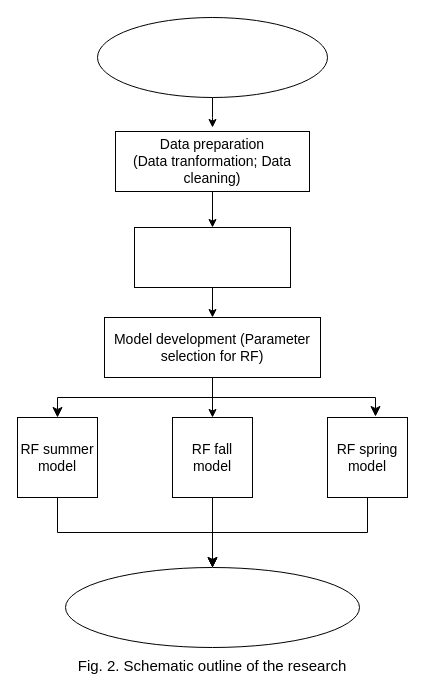
Some shapes in this 425 by 698 pixel diagram are drawn without their labels. Here are the shapes that lost their labels. From the top down, the centre of each, then its label:
At (212,57): "Raw data".
At (212,257): "Monthly data".
At (212,607): "Variable Importance analysis and prediction performance comparison".
